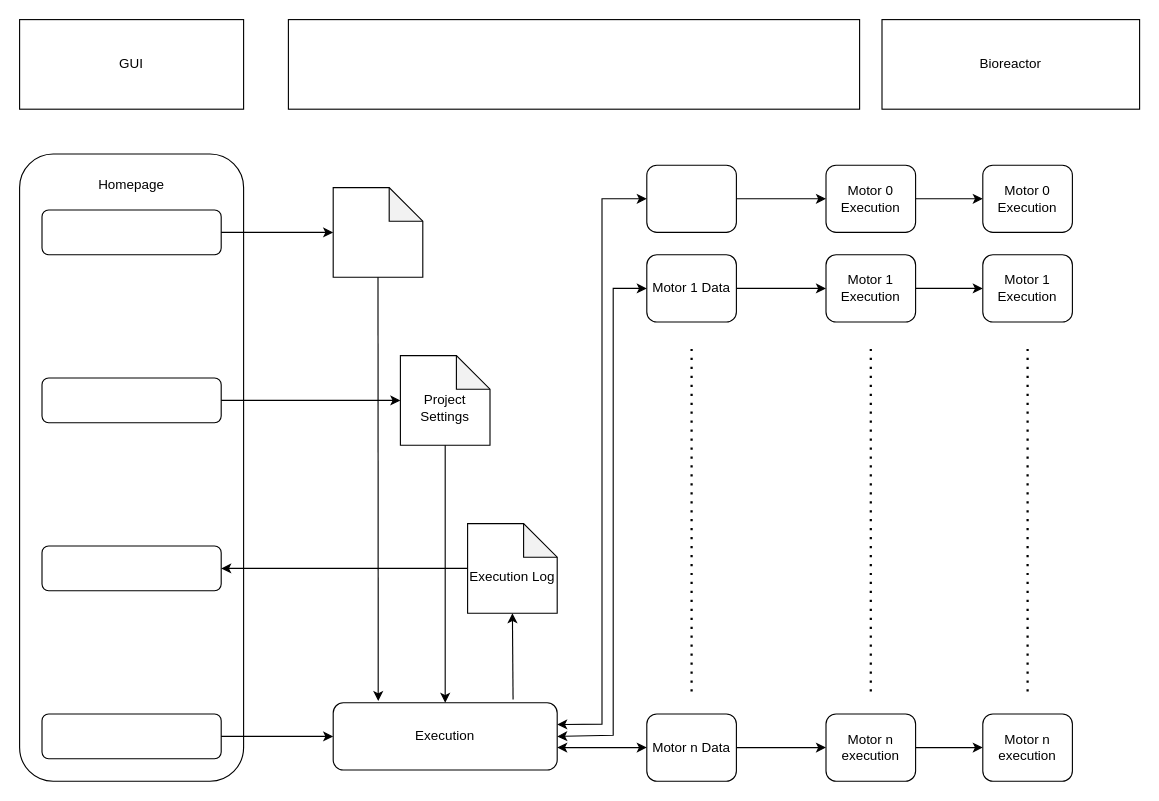
This 1159x801 diagram has some shape labels left out. The shapes that lost their labels are listed below. From the top down, each one's centre as x and y in pixels, then its label:
(573,63): Backend
(691,198): Motor 0 Data
(131,232): Bioreactor Setup Page
(377,231): Bioreactor Settings
(131,400): Project Planning Page
(131,568): History Page
(131,736): Execution Page
